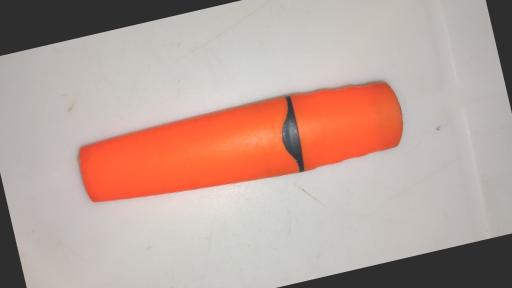Highlighter: (76, 74, 408, 218)
